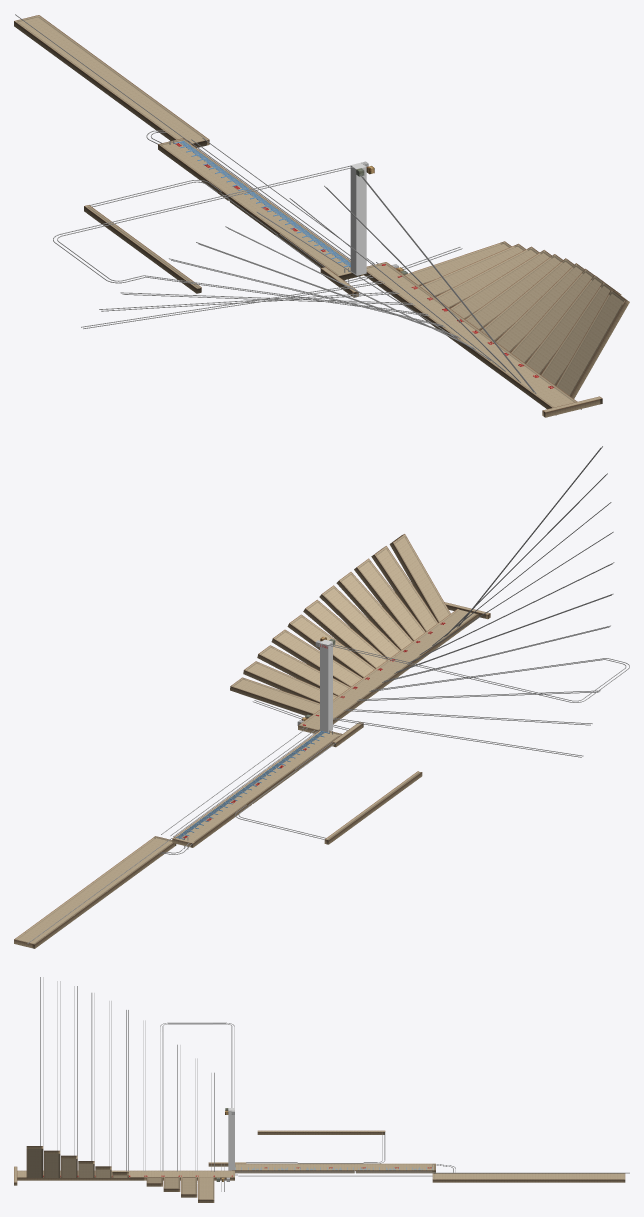
Rendered from LEVEL_TEST.FBX.
The picture shows the model from 3 angles, top to bottom: view 1: azimuth 30°, elevation 25°; view 2: azimuth 150°, elevation 25°; view 3: azimuth 270°, elevation 25°; orthographic projection. The views are drawn at different scales.
Parts seen in each view (by area): view 1: done1079, done1057, done1058, done1072, done1080, Box010, done1070, done1071, done1068, done1069, done1067, done1066 (+13 smaller); view 2: done1079, done1057, done1058, done1070, done1068, done1071, done1072, done1069, done1067, done1080, done1077, done1066 (+5 smaller); view 3: done1079, done1058, done1057, done1080, done1072, dt014, done1071, done1077, Box010, dt010, st1, dt019 (+7 smaller).
Part boxes in pixels (bbox=[...]): done1079: bbox=[14, 15, 209, 147]; done1057: bbox=[391, 284, 581, 415]; done1058: bbox=[228, 190, 363, 280]; done1072: bbox=[556, 289, 629, 398]; done1080: bbox=[158, 138, 253, 200]; Box010: bbox=[350, 162, 366, 275]; done1070: bbox=[525, 275, 604, 374]; done1071: bbox=[541, 282, 621, 385]; done1068: bbox=[510, 268, 593, 363]; done1069: bbox=[495, 263, 584, 352]; done1067: bbox=[480, 258, 574, 341]; done1066: bbox=[465, 254, 562, 330]; done1079: bbox=[14, 836, 176, 948]; done1057: bbox=[333, 609, 478, 715]; done1058: bbox=[231, 730, 342, 803]; done1070: bbox=[354, 558, 425, 640]; done1068: bbox=[336, 572, 412, 650]; done1071: bbox=[371, 546, 437, 631]; done1072: bbox=[389, 534, 450, 622]; done1069: bbox=[319, 585, 400, 658]; done1067: bbox=[303, 599, 387, 668]; done1080: bbox=[172, 795, 251, 847]; done1077: bbox=[230, 677, 319, 715]; done1066: bbox=[287, 614, 375, 677]; done1079: bbox=[432, 1173, 625, 1182]; done1058: bbox=[232, 1163, 356, 1173]; done1057: bbox=[17, 1170, 200, 1180]; done1080: bbox=[356, 1163, 435, 1173]; done1072: bbox=[26, 1146, 43, 1177]; dt014: bbox=[91, 993, 94, 1160]; done1071: bbox=[44, 1150, 60, 1177]; done1077: bbox=[198, 1177, 214, 1202]; Box010: bbox=[228, 1108, 234, 1170]; dt010: bbox=[160, 1032, 163, 1171]; st1: bbox=[432, 1172, 629, 1173]; dt019: bbox=[235, 1174, 432, 1176].
Size of the model in its own units: 437 by 256 by 935.
10 materials, 7 textured.
